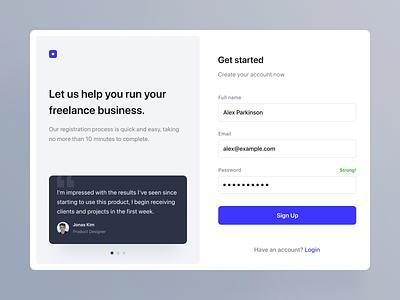button: (219, 207, 358, 226)
input: (218, 176, 358, 196), (219, 103, 358, 123), (219, 140, 359, 159)
label: (217, 54, 266, 66), (218, 71, 285, 79), (253, 248, 322, 255), (218, 95, 242, 102), (340, 168, 358, 175), (218, 169, 243, 174), (218, 131, 233, 138)
